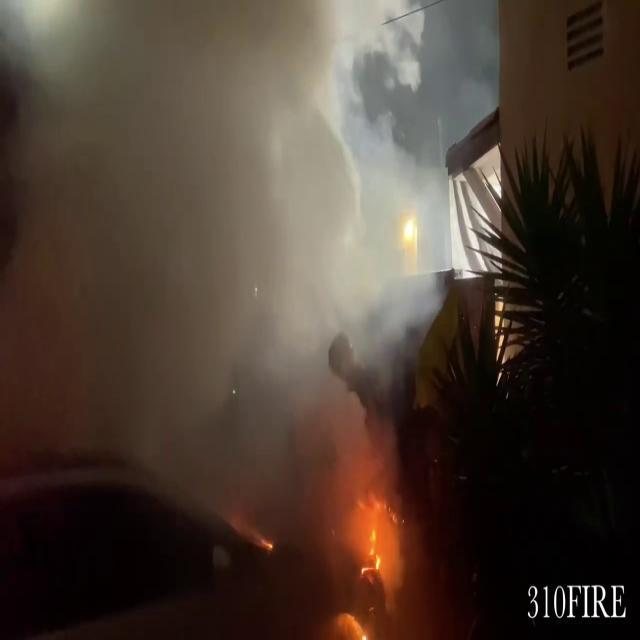Fire: (352, 485, 407, 585)
Smoke: (1, 0, 422, 549)
